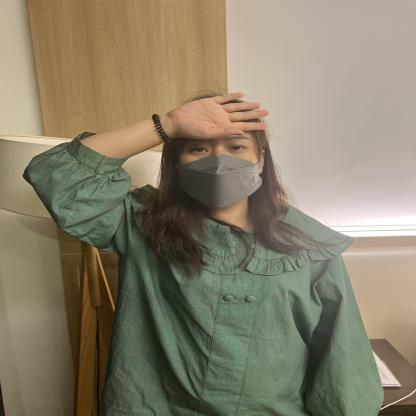Sick: (61, 82, 408, 262)
